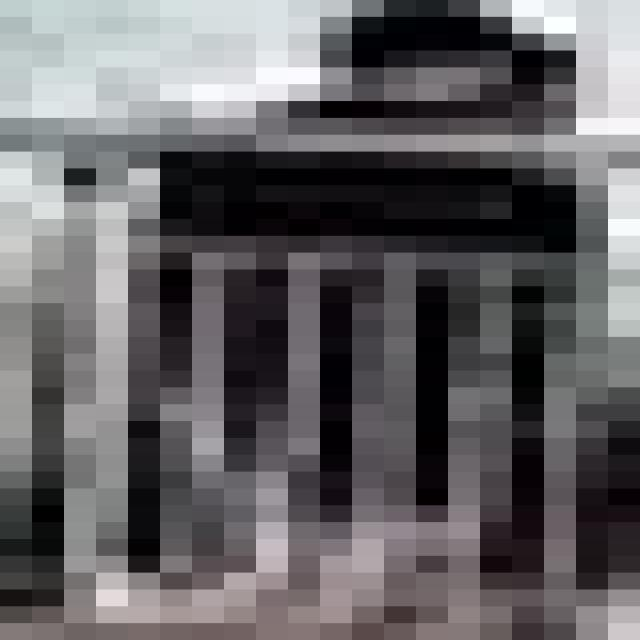helmet: (256, 0, 544, 101)
tyre: (0, 0, 608, 623)
